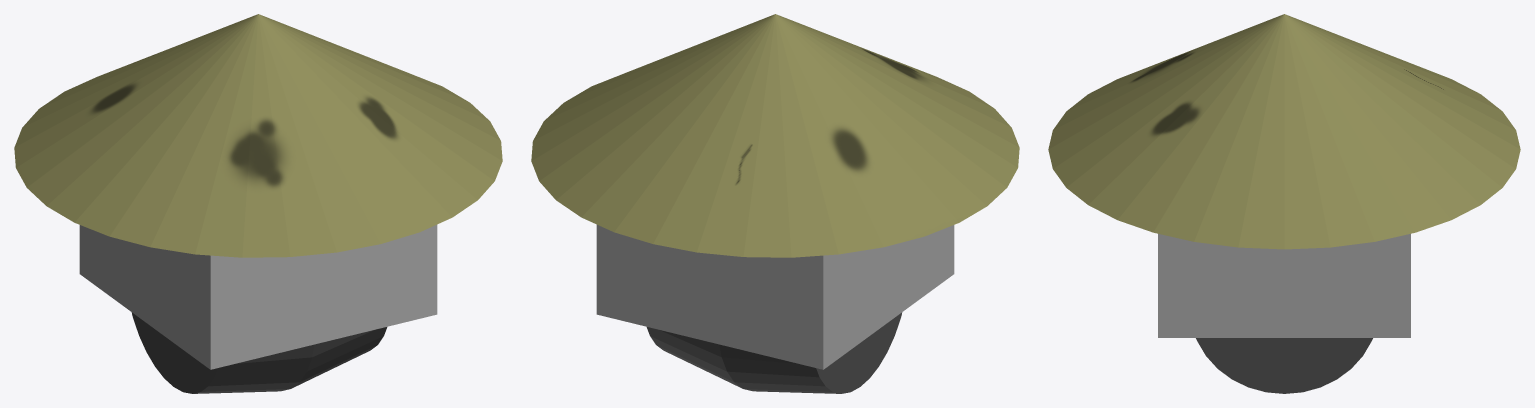
The model's file is Player.obj.
3 renders of one model, left to right at view 1: azimuth 30°, elevation 25°; view 2: azimuth 150°, elevation 25°; view 3: azimuth 270°, elevation 25°, orthographic. The views are drawn at different scales.
Parts seen in each view (by area): view 1: 円柱; view 2: 円柱; view 3: 円柱.
Boxes of the visible parts, x1,y1,x2,y2 form: 円柱: (14, 14, 502, 393); 円柱: (531, 14, 1019, 393); 円柱: (1048, 14, 1520, 393).
Size of the model in its own units: 1.94 by 1.61 by 1.94.
Materials: 1 (1 with a texture image).
